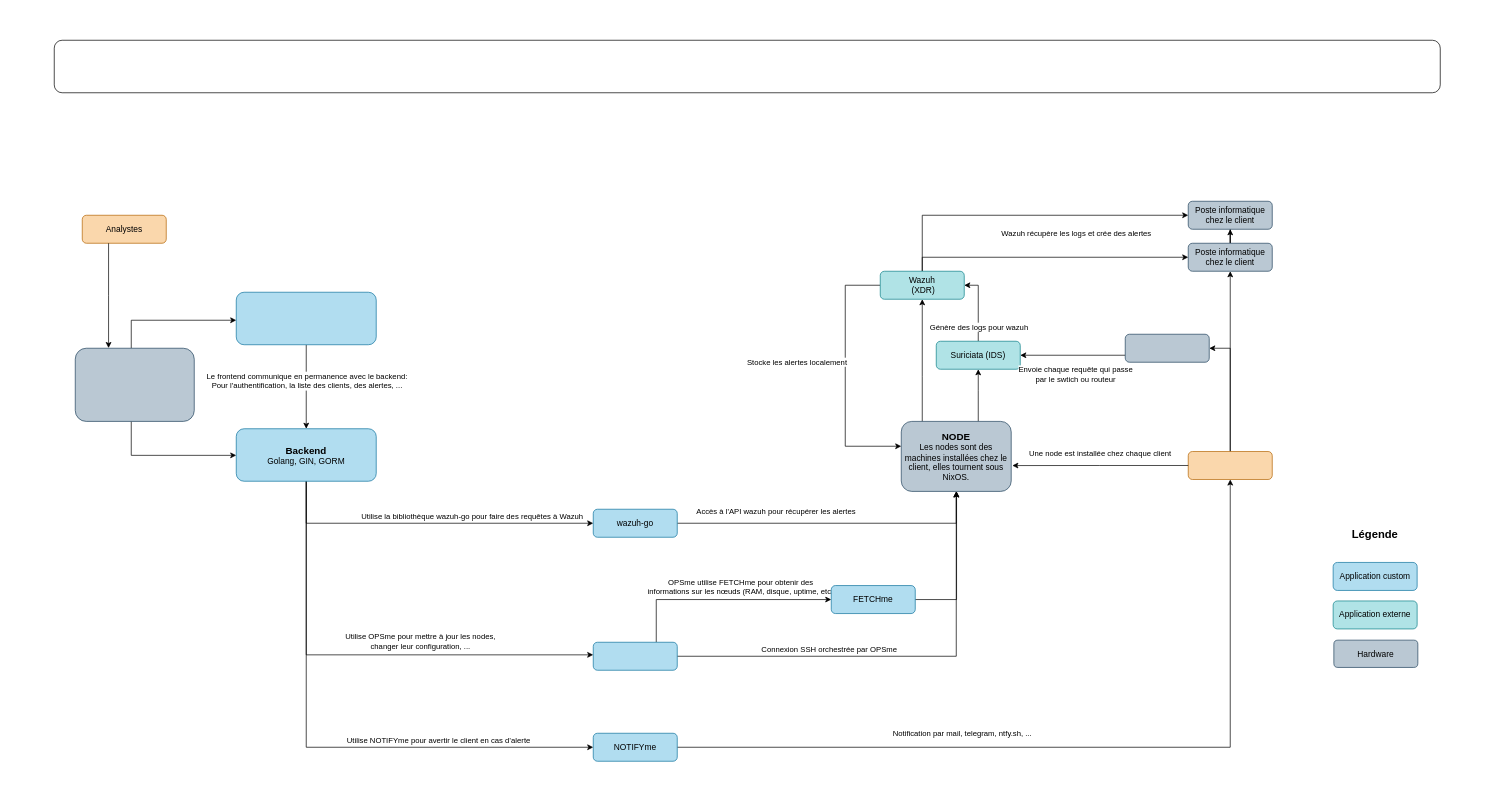
Some shapes in this 1495 by 809 pixel diagram are drawn without their labels. Here are the shapes that lost their labels. From the top down, the centre of each, then its label:
At (x=747, y=66): "SOCME".
At (x=306, y=318): "Frontend Svelte, tailwindcss, shadcn -svelte".
At (x=1167, y=348): "Switch ou routeur".
At (x=134, y=384): "CORE Le CORE est une machine installée de notre côté".
At (x=1230, y=465): "CLIENT".
At (x=635, y=656): "OPSme".
